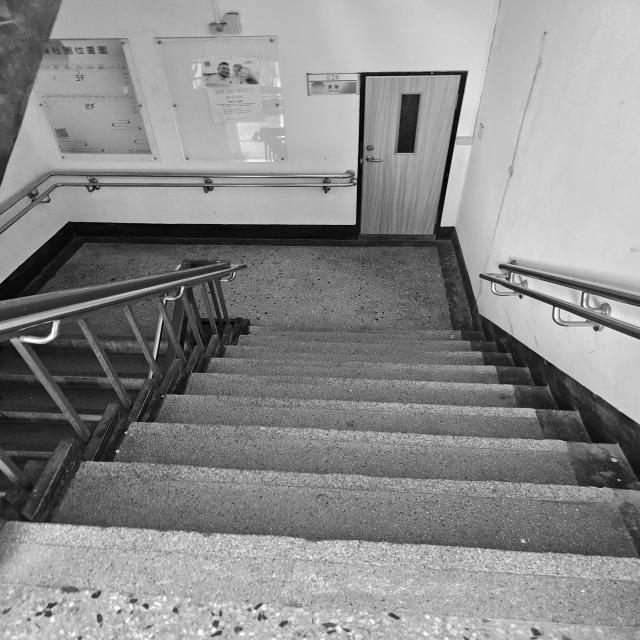floor: (0, 326, 640, 627)
